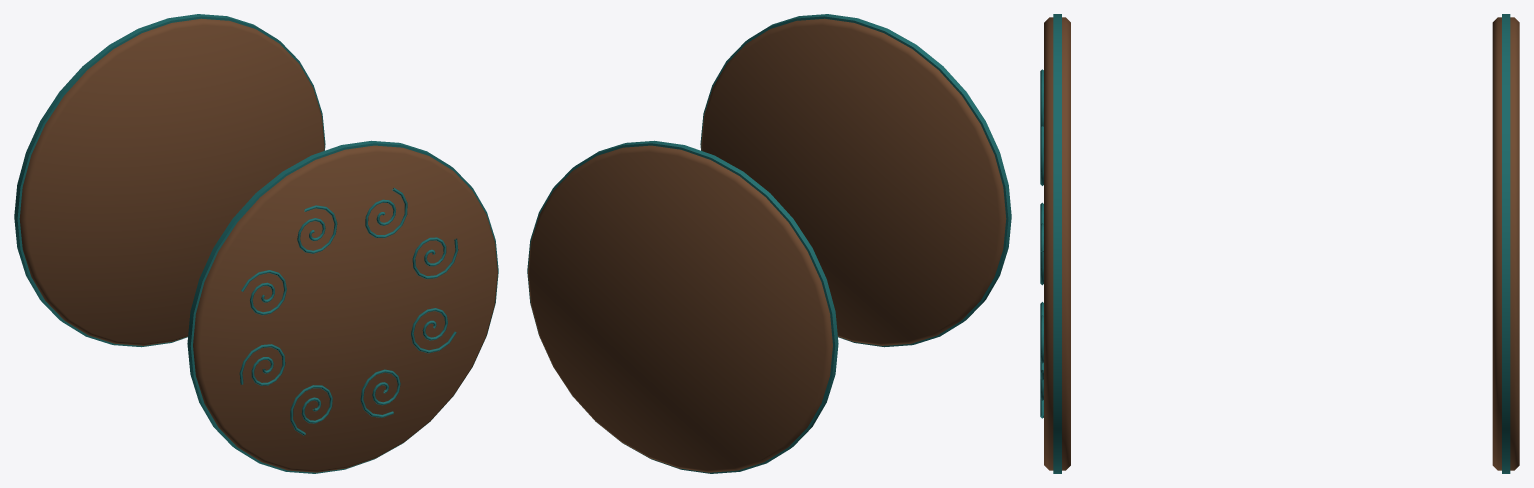
The model's file is k12_discs.obj.
The picture shows the model from 3 angles, left to right: view 1: azimuth 30°, elevation 25°; view 2: azimuth 150°, elevation 25°; view 3: azimuth 270°, elevation 25°; orthographic projection. The views are drawn at different scales.
Parts seen in each view (by area): view 1: k12_discs; view 2: k12_discs; view 3: k12_discs.
Part boxes in pixels (x1=…): k12_discs: x1=14, y1=14, x2=498, y2=473; k12_discs: x1=527, y1=14, x2=1011, y2=473; k12_discs: x1=1040, y1=14, x2=1519, y2=473.
Bounding box in the file's own units: 2.71 × 2.71 × 2.82.
